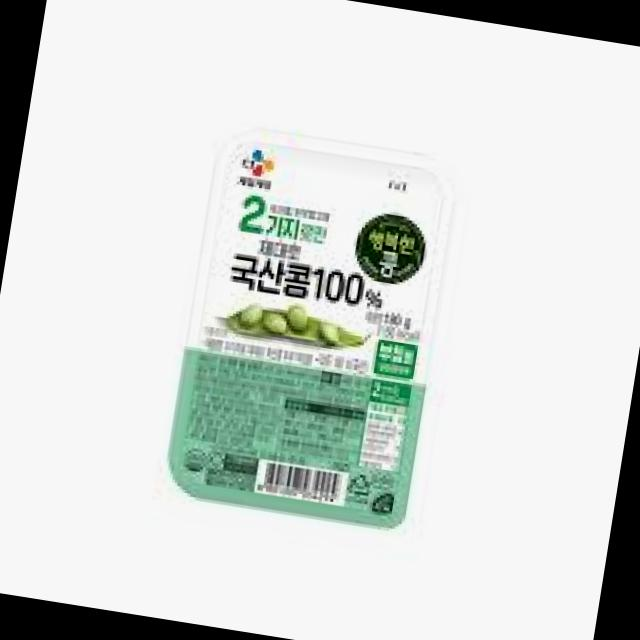tof: (141, 107, 477, 549)
